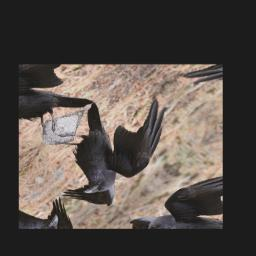Crow: (20, 76, 200, 221)
